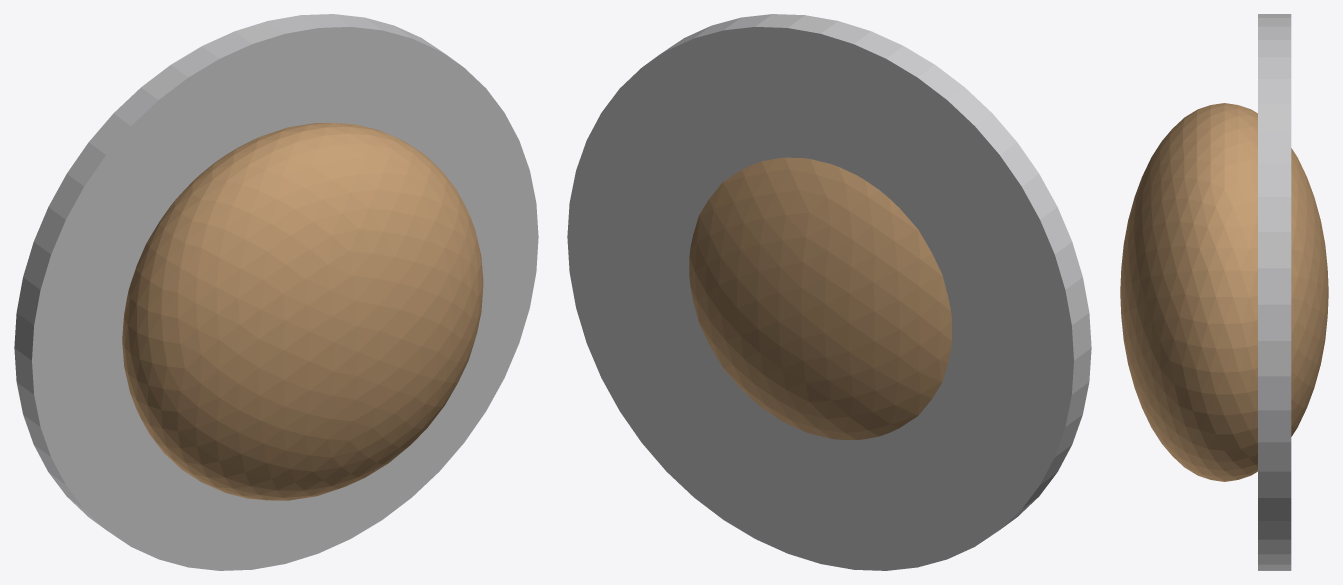
Rendered from placeholder.glb.
3 renders of one model, left to right at view 1: azimuth 30°, elevation 25°; view 2: azimuth 150°, elevation 25°; view 3: azimuth 270°, elevation 25°, orthographic. The views are drawn at different scales.
Visible parts, largest first — view 1: world; view 2: world; view 3: world.
Boxes of the visible parts, bbox=[...] form: world: bbox=[14, 14, 538, 570]; world: bbox=[567, 14, 1091, 570]; world: bbox=[1120, 14, 1328, 570].
Size of the model in its own units: 0.25 by 0.25 by 0.0935.
